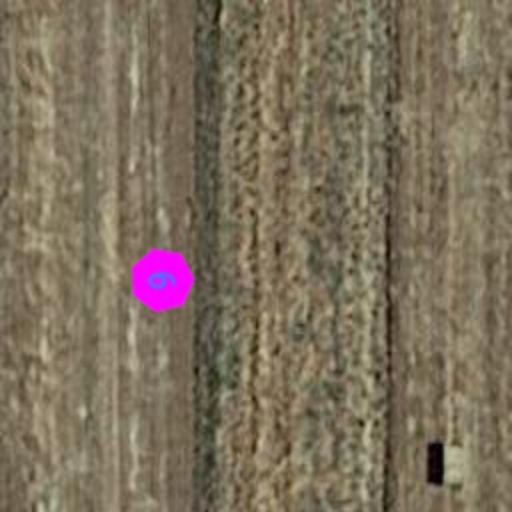heptagon: (120, 238, 204, 322)
